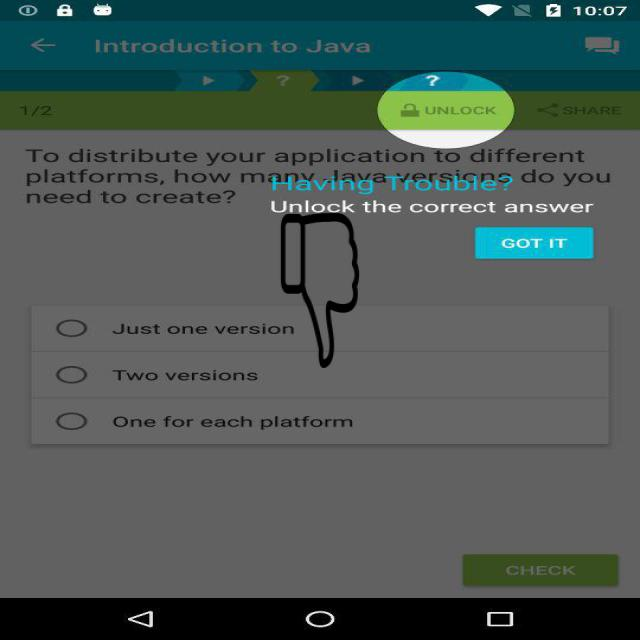obstruction: (280, 213, 360, 368)
